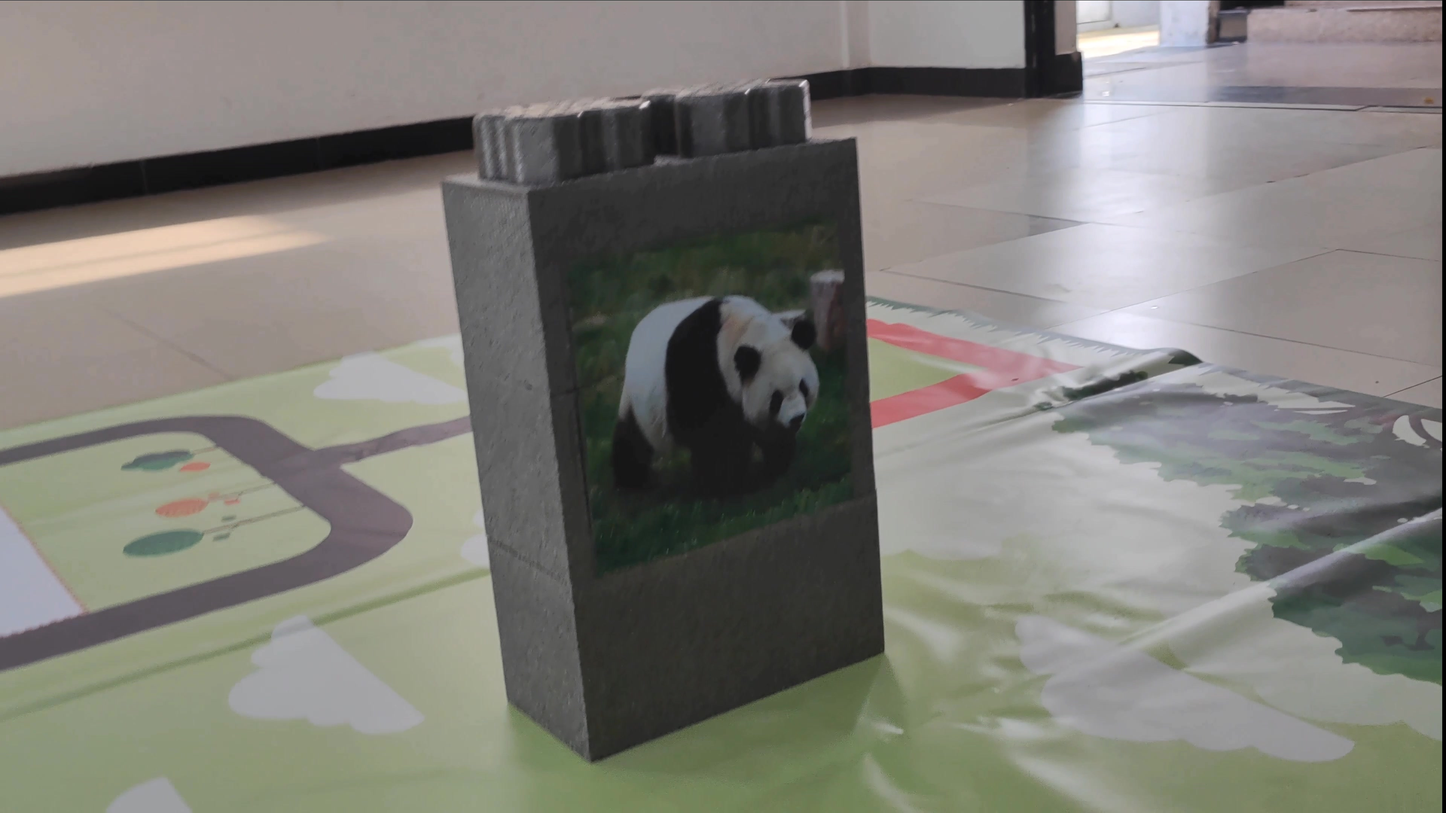panda: (589, 278, 828, 521)
